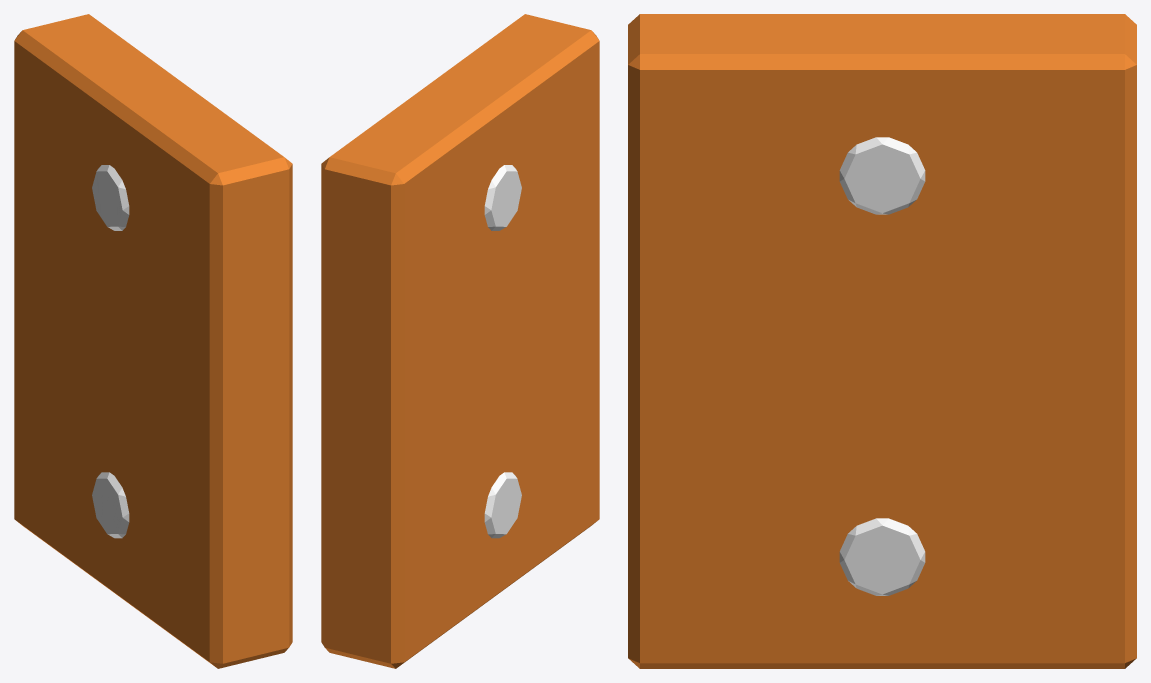
The model's file is domino_split.glb.
3 renders of one model, left to right at view 1: azimuth 30°, elevation 25°; view 2: azimuth 150°, elevation 25°; view 3: azimuth 270°, elevation 25°, orthographic. The views are drawn at different scales.
Visible parts, largest first — view 1: domino_split; view 2: domino_split; view 3: domino_split.
Boxes of the visible parts, x1=… form: domino_split: x1=14, y1=14, x2=292, y2=668; domino_split: x1=321, y1=14, x2=599, y2=668; domino_split: x1=628, y1=14, x2=1136, y2=668.
Bounding box in the file's own units: 0.078 × 0.4 × 0.3.
